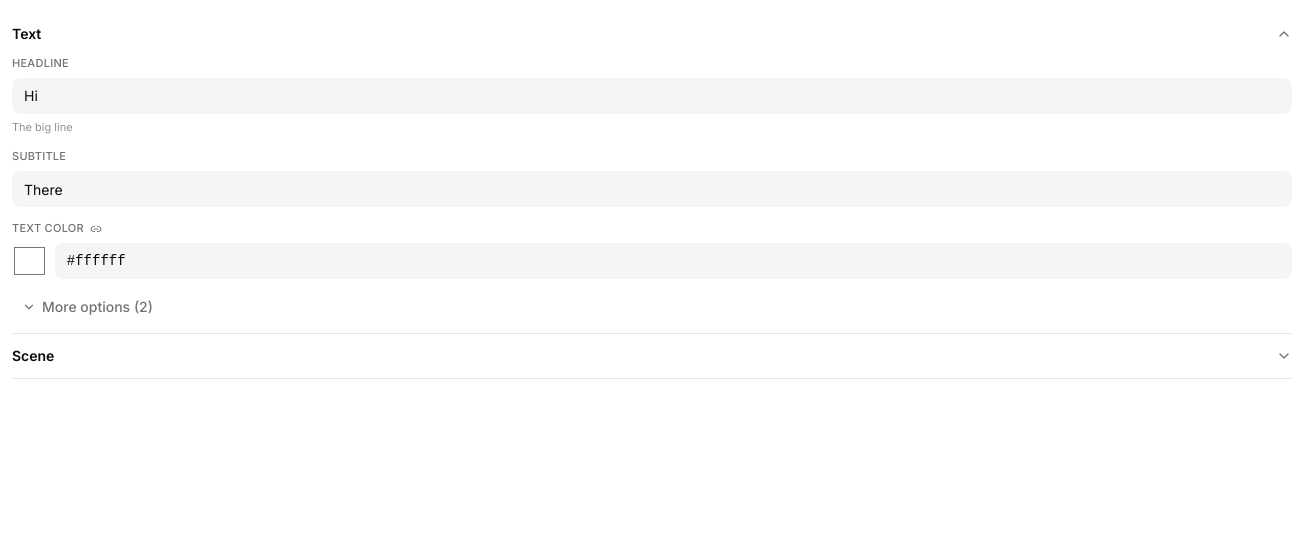
Test: PropertiesPanel › reveals the more options of a section on demand
Check: the text "Subtitle" is shown, box [12,149,66,163]
Check: the number of colour fields showing "#ffffff" is 2, box [12,243,47,279]; [55,243,1292,279]
Click the button "More options (2)": (87, 307) [12,293,163,321]
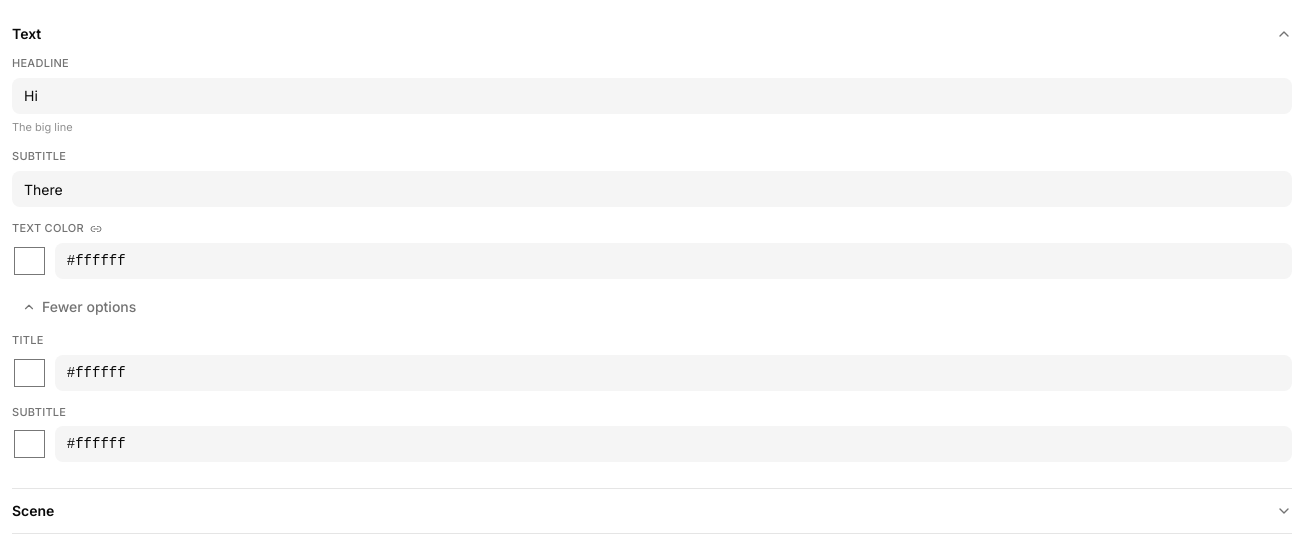
Check: the number of colour fields showing "#ffffff" is 6, box [12,243,47,279]; [55,243,1292,279]; [12,354,47,390]; [55,354,1292,390]; [12,426,47,462]; [55,426,1292,462]
